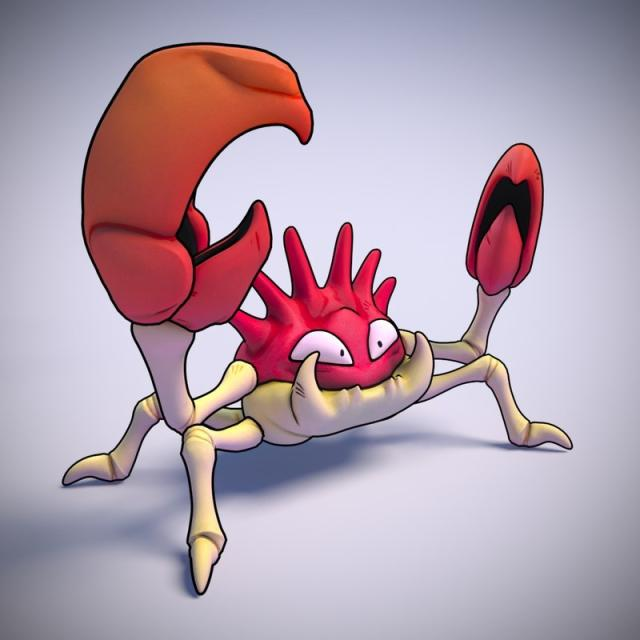Kingler: (84, 44, 545, 496)
